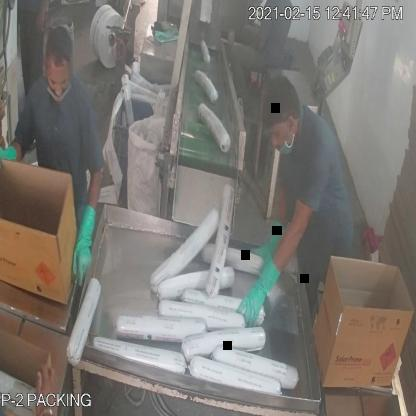glove: (229, 252, 288, 334), (62, 204, 100, 293), (0, 133, 28, 184)
no_glove: (28, 355, 63, 416), (34, 0, 50, 36)
